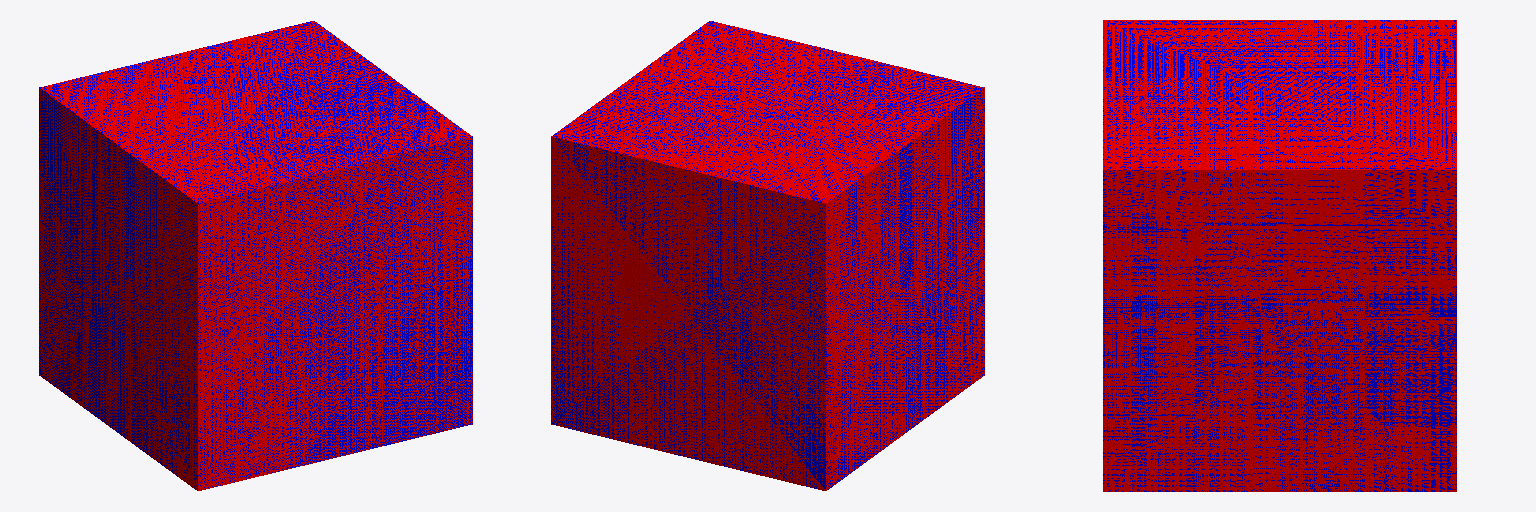
--- What the picture shows (computed from the rendered views, not written in the file) ---
The picture shows the robot from 3 angles, left to right: view 1: azimuth 30°, elevation 25°; view 2: azimuth 150°, elevation 25°; view 3: azimuth 270°, elevation 25°; orthographic projection.
Model covvi_hand_right with 87 links and 86 joints (32 revolute, 54 fixed), rooted at __base_link, posed all joints at 0 but 8 set to mid-range because 0 is outside their limits (, +8 more).
Links seen in each view (by area): view 1: __base_link, _base_link; view 2: __base_link, _base_link; view 3: __base_link, _base_link.
Link boxes in pixels (x1,y1,x2,y2): __base_link: (39,21,472,490); _base_link: (39,21,472,490); __base_link: (551,21,984,490); _base_link: (551,21,984,490); __base_link: (1103,20,1456,491); _base_link: (1103,20,1456,491).
Size in the robot's own frame: 1 by 1 by 1 metres.
Meshes: 27 distinct files referenced, 27 mesh visuals loaded (27 binary STL).

robot.urdf — covvi_hand_right:
<?xml version="1.0" encoding="utf-8"?>
<robot name="covvi_hand_right">

    <link name="__base_link">
        <visual>
            <origin xyz="0.000000000000 0.000000000000 0.000000000000" rpy="0 0 0"/>
            <geometry><box size="1 1 1"/></geometry>
            <material name="r48384"><color rgba="1 0 0 0"/></material>
        </visual>
        <inertial>
            <mass value="1"/>
            <inertia ixx="1.0" ixy="0.0" ixz="0.0" iyy="1.0" iyz="0.0" izz="1.0"/>
        </inertial>
    </link>

    <link name="_base_link">
        <visual>
            <origin xyz="0.000000000000 0.000000000000 0.000000000000" rpy="0 0 0"/>
            <geometry><box size="1 1 1"/></geometry>
            <material name="r81841"><color rgba="0 0 1 0"/></material>
        </visual>
        <inertial>
            <mass value="1"/>
            <inertia ixx="1.0" ixy="0.0" ixz="0.0" iyy="1.0" iyz="0.0" izz="1.0"/>
        </inertial>
    </link>

    <joint name="__joint_base_link" type="fixed">
        <origin xyz="0.000000000000 0.000000000000 0.000000000000" rpy="1.5707963267948966 3.141592653589793 0.0"/>
        <parent link="__base_link"/>
        <child link="_base_link"/>
        <axis xyz="0 0 1"/>
    </joint>

    <link name="base_link">
        <visual>
            <origin xyz="0.000000000000 0.000000000000 0.000000000000" rpy="0 0 0"/>
            <geometry><mesh filename="package://hand_pack/urdf/linear_meshes/right_base_link.STL" scale="0.00125 0.00125 0.00125"/></geometry>
            <material name=""><color rgba="0.7 0.7 0.7 1.0"/></material>
        </visual>
        <collision>
            <origin xyz="0 0 0" rpy="0 0 0"/>
            <geometry>
            <mesh filename="package://hand_pack/urdf/linear_meshes/right_base_link.STL" scale="0.00125 0.00125 0.00125"/>
            </geometry>
        </collision>
        <inertial>
            <mass value="0"/>
            <inertia ixx="0.0" ixy="0.0" ixz="0.0" iyy="0.0" iyz="0.0" izz="0.0"/>
        </inertial>
    </link>

    <joint name="_joint_base_link" type="fixed">
        <origin xyz="0.002143413574 -0.067947931290 0.012606076002" rpy="0 0 0"/>
        <parent link="_base_link"/>
        <child link="base_link"/>
        <axis xyz="0 0 1"/>
    </joint>

        <link name="Thumb_driver_link">
        <visual>
            <origin xyz="0.000000000000 0.000000000000 0.000000000000" rpy="0 0 0"/>
            <geometry><box size="0 0 0"/></geometry>
            <material name="r37082"><color rgba="0 0 0 0"/></material>
        </visual>
        <inertial>
            <mass value="1"/>
            <inertia ixx="1.0" ixy="0.0" ixz="0.0" iyy="1.0" iyz="0.0" izz="1.0"/>
        </inertial>
    </link>
    <joint name="Thumb" type="revolute">
        <origin xyz="0.000000000000 0.000000000000 0.000000000000"/><parent link="base_link"/><child link="Thumb_driver_link"/><axis xyz="0 0 1"/>
        <limit lower="0.00000000000000000000" upper="1.00000000000000000000" effort="0" velocity="0"/>
    </joint>
    <link name="Index_driver_link">
        <visual>
            <origin xyz="0.000000000000 0.000000000000 0.000000000000" rpy="0 0 0"/>
            <geometry><box size="0 0 0"/></geometry>
            <material name="r47461"><color rgba="0 0 0 0"/></material>
        </visual>
        <inertial>
            <mass value="1"/>
            <inertia ixx="1.0" ixy="0.0" ixz="0.0" iyy="1.0" iyz="0.0" izz="1.0"/>
        </inertial>
    </link>
    <joint name="Index" type="revolute">
        <origin xyz="0.000000000000 0.000000000000 0.000000000000"/><parent link="base_link"/><child link="Index_driver_link"/><axis xyz="0 0 1"/>
        <limit lower="0.00000000000000000000" upper="1.00000000000000000000" effort="0" velocity="0"/>
    </joint>
    <link name="Middle_driver_link">
        <visual>
            <origin xyz="0.000000000000 0.000000000000 0.000000000000" rpy="0 0 0"/>
            <geometry><box size="0 0 0"/></geometry>
            <material name="r7722"><color rgba="0 0 0 0"/></material>
        </visual>
        <inertial>
            <mass value="1"/>
            <inertia ixx="1.0" ixy="0.0" ixz="0.0" iyy="1.0" iyz="0.0" izz="1.0"/>
        </inertial>
    </link>
    <joint name="Middle" type="revolute">
        <origin xyz="0.000000000000 0.000000000000 0.000000000000"/><parent link="base_link"/><child link="Middle_driver_link"/><axis xyz="0 0 1"/>
        <limit lower="0.00000000000000000000" upper="1.00000000000000000000" effort="0" velocity="0"/>
    </joint>
    <link name="Ring_driver_link">
        <visual>
            <origin xyz="0.000000000000 0.000000000000 0.000000000000" rpy="0 0 0"/>
            <geometry><box size="0 0 0"/></geometry>
            <material name="r66101"><color rgba="0 0 0 0"/></material>
        </visual>
        <inertial>
            <mass value="1"/>
            <inertia ixx="1.0" ixy="0.0" ixz="0.0" iyy="1.0" iyz="0.0" izz="1.0"/>
        </inertial>
    </link>
    <joint name="Ring" type="revolute">
        <origin xyz="0.000000000000 0.000000000000 0.000000000000"/><parent link="base_link"/><child link="Ring_driver_link"/><axis xyz="0 0 1"/>
        <limit lower="0.00000000000000000000" upper="1.00000000000000000000" effort="0" velocity="0"/>
    </joint>
    <link name="Little_driver_link">
        <visual>
            <origin xyz="0.000000000000 0.000000000000 0.000000000000" rpy="0 0 0"/>
            <geometry><box size="0 0 0"/></geometry>
            <material name="r58325"><color rgba="0 0 0 0"/></material>
        </visual>
        <inertial>
            <mass value="1"/>
            <inertia ixx="1.0" ixy="0.0" ixz="0.0" iyy="1.0" iyz="0.0" izz="1.0"/>
        </inertial>
    </link>
    <joint name="Little" type="revolute">
        <origin xyz="0.000000000000 0.000000000000 0.000000000000"/><parent link="base_link"/><child link="Little_driver_link"/><axis xyz="0 0 1"/>
        <limit lower="0.00000000000000000000" upper="1.00000000000000000000" effort="0" velocity="0"/>
    </joint>
    <link name="Rotate_driver_link">
        <visual>
            <origin xyz="0.000000000000 0.000000000000 0.000000000000" rpy="0 0 0"/>
            <geometry><box size="0 0 0"/></geometry>
            <material name="r13443"><color rgba="0 0 0 0"/></material>
        </visual>
        <inertial>
            <mass value="1"/>
            <inertia ixx="1.0" ixy="0.0" ixz="0.0" iyy="1.0" iyz="0.0" izz="1.0"/>
        </inertial>
    </link>
    <joint name="Rotate" type="revolute">
        <origin xyz="0.000000000000 0.000000000000 0.000000000000"/><parent link="base_link"/><child link="Rotate_driver_link"/><axis xyz="0 0 1"/>
        <limit lower="0.00000000000000000000" upper="1.00000000000000000000" effort="0" velocity="0"/>
    </joint>

        <link name="lisa">
        <visual>
            <origin xyz="0.000000000000 0.000000000000 0.000000000000" rpy="0 0 0"/>
            <geometry><mesh filename="package://hand_pack/urdf/linear_meshes/right_lisa.STL" scale="0.00125 0.00125 0.00125"/></geometry>
            <material name=""><color rgba="0.7 0.7 0.1 1.0"/></material>
        </visual>
         <collision>
            <origin xyz="0 0 0" rpy="0 0 0"/>
            <geometry>
            <mesh filename="package://hand_pack/urdf/linear_meshes/right_lisa.STL" scale="0.00125 0.00125 0.00125"/>
            </geometry>
        </collision>
        <inertial>
            <mass value="0"/>
            <inertia ixx="0.0" ixy="0.0" ixz="0.0" iyy="0.0" iyz="0.0" izz="0.0"/>
        </inertial>
    </link>
        <link name="_lisa_l0">
        <visual>
            <origin xyz="0.000000000000 0.000000000000 0.000000000000" rpy="0 0 0"/>
            <geometry><box size="0 0 0"/></geometry>
            <material name=""><color rgba="0 0 0 0"/></material>
        </visual>
        <inertial>
            <mass value="0"/>
            <inertia ixx="0.0" ixy="0.0" ixz="0.0" iyy="0.0" iyz="0.0" izz="0.0"/>
        </inertial>
    </link>

    <joint name="_lisa_j_input_joint" type="fixed">
        <origin xyz="0.013299160056 0.024865300265 0.015495882948" rpy="-0.00000001490116097180 0 0"/>
        <parent link="base_link"/>
        <axis xyz="8.166136313026937e-09 0.9999999999999999 1.300658039224663e-08"/>
        <child link="_lisa_l0"/>
    </joint>

    
    <link name="_lisa_l1">
        <visual>
            <origin xyz="0.000000000000 0.000000000000 -0.000000000000" rpy="0 0 -0.00000001490116097180"/>
            <geometry><box size="0 0 0"/></geometry>
            <material name="r48572"><color rgba="0 0 0 0"/></material>
        </visual>
        <inertial>
            <mass value="1"/>
            <inertia ixx="1.0" ixy="0.0" ixz="0.0" iyy="1.0" iyz="0.0" izz="1.0"/>
        </inertial>
    </link>
    <joint name="_lisa_j01" type="revolute">
        <origin xyz="0.000000000000 0.000000000000 0.000000000000" rpy="0 0 0"/>
        <parent link="_lisa_l0"/>
        <child link="_lisa_l1"/>
        <axis xyz="8.166136313026937e-09 0.9999999999999999 1.300658039224663e-08"/>
        <mimic joint="Rotate" multiplier="1.07337741974876732520" offset="0.00000001490116097180"/>
        <limit lower="0.00000001490116097180" upper="1.07337743464992829701" effort="0" velocity="0"/>
    </joint>


    <joint name="_lisa_j_lisa" type="fixed">
        <origin xyz="-0.013299160056 -0.024865300265 -0.015495882948" rpy="-0.00000001490116097180 0 0"/>
        <parent link="_lisa_l1"/>
        <child link="lisa"/>
    </joint>
    <link name="thumb_chassis">
        <visual>
            <origin xyz="0.000000000000 0.000000000000 0.000000000000" rpy="0 0 0"/>
            <geometry><mesh filename="package://hand_pack/urdf/linear_meshes/right_thumb_chassis.STL" scale="0.00125 0.00125 0.00125"/></geometry>
            <material name=""><color rgba="0.7 0.1 0.7 1.0"/></material>
        </visual>
         <collision>
            <origin xyz="0 0 0" rpy="0 0 0"/>
            <geometry>
            <mesh filename="package://hand_pack/urdf/linear_meshes/right_thumb_chassis.STL" scale="0.00125 0.00125 0.00125"/>
            </geometry>
        </collision>
        <inertial>
            <mass value="0"/>
            <inertia ixx="0.0" ixy="0.0" ixz="0.0" iyy="0.0" iyz="0.0" izz="0.0"/>
        </inertial>
    </link>
        <link name="_thumb_chassis_l0">
        <visual>
            <origin xyz="0.000000000000 0.000000000000 0.000000000000" rpy="0 0 0"/>
            <geometry><box size="0 0 0"/></geometry>
            <material name=""><color rgba="0 0 0 0"/></material>
        </visual>
        <inertial>
            <mass value="0"/>
            <inertia ixx="0.0" ixy="0.0" ixz="0.0" iyy="0.0" iyz="0.0" izz="0.0"/>
        </inertial>
    </link>

    <joint name="_thumb_chassis_j_input_joint" type="fixed">
        <origin xyz="0.030298065971 0.028648911186 0.015688627590" rpy="-0.00000002107342389479 0 0"/>
        <parent link="base_link"/>
        <axis xyz="-1.0039121702977482e-08 -0.9999999999999999 1.8777992879094288e-08"/>
        <child link="_thumb_chassis_l0"/>
    </joint>

    
    <link name="_thumb_chassis_l1">
        <visual>
            <origin xyz="0.000000000000 0.000000000000 -0.000000000000" rpy="0 0 -0.00000002107342389479"/>
            <geometry><box size="0 0 0"/></geometry>
            <material name="r29002"><color rgba="0 0 0 0"/></material>
        </visual>
        <inertial>
            <mass value="1"/>
            <inertia ixx="1.0" ixy="0.0" ixz="0.0" iyy="1.0" iyz="0.0" izz="1.0"/>
        </inertial>
    </link>
    <joint name="_thumb_chassis_j01" type="revolute">
        <origin xyz="0.000000000000 0.000000000000 0.000000000000" rpy="0 0 0"/>
        <parent link="_thumb_chassis_l0"/>
        <child link="_thumb_chassis_l1"/>
        <axis xyz="-1.0039121702977482e-08 -0.9999999999999999 1.8777992879094288e-08"/>
        <mimic joint="Rotate" multiplier="1.53339618284689227501" offset="0.00000002107342389479"/>
        <limit lower="0.00000002107342389479" upper="1.53339620392031616980" effort="0" velocity="0"/>
    </joint>


    <joint name="_thumb_chassis_j_thumb_chassis" type="fixed">
        <origin xyz="-0.030298065971 -0.028648911186 -0.015688627590" rpy="-0.00000002107342389479 0 0"/>
        <parent link="_thumb_chassis_l1"/>
        <child link="thumb_chassis"/>
    </joint>
    <link name="thumb_proximal">
        <visual>
            <origin xyz="0.000000000000 0.000000000000 0.000000000000" rpy="0 0 0"/>
            <geometry><mesh filename="package://hand_pack/urdf/linear_meshes/right_thumb_proximal.STL" scale="0.00125 0.00125 0.00125"/></geometry>
            <material name=""><color rgba="1.0 1.0 1.0 1.0"/></material>
        </visual>
         <collision>
            <origin xyz="0 0 0" rpy="0 0 0"/>
            <geometry>
            <mesh filename="package://hand_pack/urdf/linear_meshes/right_thumb_proximal.STL" scale="0.00125 0.00125 0.00125"/>
            </geometry>
        </collision>
        <inertial>
            <mass value="0"/>
            <inertia ixx="0.0" ixy="0.0" ixz="0.0" iyy="0.0" iyz="0.0" izz="0.0"/>
        </inertial>
    </link>
        <link name="_thumb_proximal_l0">
        <visual>
            <origin xyz="0.000000000000 0.000000000000 0.000000000000" rpy="0 0 0"/>
            <geometry><box size="0 0 0"/></geometry>
            <material name=""><color rgba="0 0 0 0"/></material>
        </visual>
        <inertial>
            <mass value="0"/>
            <inertia ixx="0.0" ixy="0.0" ixz="0.0" iyy="0.0" iyz="0.0" izz="0.0"/>
        </inertial>
    </link>

    <joint name="_thumb_proximal_j_input_joint" type="fixed">
        <origin xyz="0.057440712585 0.027078291313 0.013009442663" rpy="0.00000000000000016653 0 0"/>
        <parent link="thumb_chassis"/>
        <axis xyz="0.14866818156281958 -0.1305261869683429 0.9802350158540093"/>
        <child link="_thumb_proximal_l0"/>
    </joint>

    
    <link name="_thumb_proximal_l1">
        <visual>
            <origin xyz="0.000000000000 0.000000000000 -0.000000000000" rpy="0 0 0.00000000000000016653"/>
            <geometry><box size="0 0 0"/></geometry>
            <material name="r67118"><color rgba="0 0 0 0"/></material>
        </visual>
        <inertial>
            <mass value="1"/>
            <inertia ixx="1.0" ixy="0.0" ixz="0.0" iyy="1.0" iyz="0.0" izz="1.0"/>
        </inertial>
    </link>
    <joint name="_thumb_proximal_j01" type="revolute">
        <origin xyz="0.000000000000 0.000000000000 0.000000000000" rpy="0 0 0"/>
        <parent link="_thumb_proximal_l0"/>
        <child link="_thumb_proximal_l1"/>
        <axis xyz="0.14866818156281958 -0.1305261869683429 0.9802350158540093"/>
        <mimic joint="Thumb" multiplier="0.72022188617106031039" offset="-0.00000000000000016653"/>
        <limit lower="-0.00000000000000016653" upper="0.72022188617106019937" effort="0" velocity="0"/>
    </joint>


    <joint name="_thumb_proximal_j_thumb_proximal" type="fixed">
        <origin xyz="-0.057440712585 -0.027078291313 -0.013009442663" rpy="0.00000000000000016653 0 0"/>
        <parent link="_thumb_proximal_l1"/>
        <child link="thumb_proximal"/>
    </joint>
    <link name="thumb_distal">
        <visual>
            <origin xyz="0.000000000000 0.000000000000 0.000000000000" rpy="0 0 0"/>
            <geometry><mesh filename="package://hand_pack/urdf/linear_meshes/right_thumb_distal.STL" scale="0.00125 0.00125 0.00125"/></geometry>
            <material name=""><color rgba="1.0 1.0 1.0 1.0"/></material>
        </visual>
         <collision>
            <origin xyz="0 0 0" rpy="0 0 0"/>
            <geometry>
            <mesh filename="package://hand_pack/urdf/linear_meshes/right_thumb_distal.STL" scale="0.00125 0.00125 0.00125"/>
            </geometry>
        </collision>
        <inertial>
            <mass value="0"/>
            <inertia ixx="0.0" ixy="0.0" ixz="0.0" iyy="0.0" iyz="0.0" izz="0.0"/>
        </inertial>
    </link>
        <link name="_thumb_distal_l0">
        <visual>
            <origin xyz="0.000000000000 0.000000000000 0.000000000000" rpy="0 0 0"/>
            <geometry><box size="0 0 0"/></geometry>
            <material name=""><color rgba="0 0 0 0"/></material>
        </visual>
        <inertial>
            <mass value="0"/>
            <inertia ixx="0.0" ixy="0.0" ixz="0.0" iyy="0.0" iyz="0.0" izz="0.0"/>
        </inertial>
    </link>

    <joint name="_thumb_distal_j_input_joint" type="fixed">
        <origin xyz="0.107606593447 0.084085993461 0.012754325235" rpy="0.00000000000000033307 0 0"/>
        <parent link="thumb_proximal"/>
        <axis xyz="0.1486681537240236 -0.13052619107234176 0.9802350195297231"/>
        <child link="_thumb_distal_l0"/>
    </joint>

    
    <link name="_thumb_distal_l1">
        <visual>
            <origin xyz="0.000000000000 0.000000000000 -0.000000000000" rpy="0 0 0.00000000000000033307"/>
            <geometry><box size="0 0 0"/></geometry>
            <material name="r72482"><color rgba="0 0 0 0"/></material>
        </visual>
        <inertial>
            <mass value="1"/>
            <inertia ixx="1.0" ixy="0.0" ixz="0.0" iyy="1.0" iyz="0.0" izz="1.0"/>
        </inertial>
    </link>
    <joint name="_thumb_distal_j01" type="revolute">
        <origin xyz="0.000000000000 0.000000000000 0.000000000000" rpy="0 0 0"/>
        <parent link="_thumb_distal_l0"/>
        <child link="_thumb_distal_l1"/>
        <axis xyz="0.1486681537240236 -0.13052619107234176 0.9802350195297231"/>
        <mimic joint="Thumb" multiplier="1.06686018440504470917" offset="-0.00000000000000033307"/>
        <limit lower="-0.00000000000000033307" upper="1.06686018440504426508" effort="0" velocity="0"/>
    </joint>


    <joint name="_thumb_distal_j_thumb_distal" type="fixed">
        <origin xyz="-0.107606593447 -0.084085993461 -0.012754325235" rpy="0.00000000000000033307 0 0"/>
        <parent link="_thumb_distal_l1"/>
        <child link="thumb_distal"/>
    </joint>
    <link name="thumb_link">
        <visual>
            <origin xyz="0.000000000000 0.000000000000 0.000000000000" rpy="0 0 0"/>
            <geometry><mesh filename="package://hand_pack/urdf/linear_meshes/right_thumb_link.STL" scale="0.00125 0.00125 0.00125"/></geometry>
            <material name=""><color rgba="0.7 0.1 0.1 1.0"/></material>
        </visual>
         <collision>
            <origin xyz="0 0 0" rpy="0 0 0"/>
            <geometry>
            <mesh filename="package://hand_pack/urdf/linear_meshes/right_thumb_link.STL" scale="0.00125 0.00125 0.00125"/>
            </geometry>
        </collision>
        <inertial>
            <mass value="0"/>
            <inertia ixx="0.0" ixy="0.0" ixz="0.0" iyy="0.0" iyz="0.0" izz="0.0"/>
        </inertial>
    </link>
        <link name="_thumb_link_l0">
        <visual>
            <origin xyz="0.000000000000 0.000000000000 0.000000000000" rpy="0 0 0"/>
            <geometry><box size="0 0 0"/></geometry>
            <material name=""><color rgba="0 0 0 0"/></material>
        </visual>
        <inertial>
            <mass value="0"/>
            <inertia ixx="0.0" ixy="0.0" ixz="0.0" iyy="0.0" iyz="0.0" izz="0.0"/>
        </inertial>
    </link>

    <joint name="_thumb_link_j_input_joint" type="fixed">
        <origin xyz="0.046350946174 0.032309169498 0.015440038341" rpy="0.00000000000000016653 0 0"/>
        <parent link="thumb_chassis"/>
        <axis xyz="0.1486681500676118 -0.1305261887766519 0.9802350203899655"/>
        <child link="_thumb_link_l0"/>
    </joint>

    
    <link name="_thumb_link_l1">
        <visual>
            <origin xyz="0.000000000000 0.000000000000 -0.000000000000" rpy="0 0 0.00000000000000016653"/>
            <geometry><box size="0 0 0"/></geometry>
            <material name="r43178"><color rgba="0 0 0 0"/></material>
        </visual>
        <inertial>
            <mass value="1"/>
            <inertia ixx="1.0" ixy="0.0" ixz="0.0" iyy="1.0" iyz="0.0" izz="1.0"/>
        </inertial>
    </link>
    <joint name="_thumb_link_j01" type="revolute">
        <origin xyz="0.000000000000 0.000000000000 0.000000000000" rpy="0 0 0"/>
        <parent link="_thumb_link_l0"/>
        <child link="_thumb_link_l1"/>
        <axis xyz="0.1486681500676118 -0.1305261887766519 0.9802350203899655"/>
        <mimic joint="Thumb" multiplier="0.76799454671461719890" offset="-0.00000000000000016653"/>
        <limit lower="-0.00000000000000016653" upper="0.76799454671461697686" effort="0" velocity="0"/>
    </joint>


    <joint name="_thumb_link_j_thumb_link" type="fixed">
        <origin xyz="-0.046350946174 -0.032309169498 -0.015440038341" rpy="0.00000000000000016653 0 0"/>
        <parent link="_thumb_link_l1"/>
        <child link="thumb_link"/>
    </joint>
    <link name="thumb_follower">
        <visual>
            <origin xyz="0.000000000000 0.000000000000 0.000000000000" rpy="0 0 0"/>
            <geometry><mesh filename="package://hand_pack/urdf/linear_meshes/right_thumb_follower.STL" scale="0.00125 0.00125 0.00125"/></geometry>
            <material name=""><color rgba="0.1 0.7 0.1 1.0"/></material>
        </visual>
         <collision>
            <origin xyz="0 0 0" rpy="0 0 0"/>
            <geometry>
            <mesh filename="package://hand_pack/urdf/linear_meshes/right_thumb_follower.STL" scale="0.00125 0.00125 0.00125"/>
            </geometry>
        </collision>
        <inertial>
            <mass value="0"/>
            <inertia ixx="0.0" ixy="0.0" ixz="0.0" iyy="0.0" iyz="0.0" izz="0.0"/>
        </inertial>
    </link>
        <link name="_thumb_follower_l0">
        <visual>
            <origin xyz="0.000000000000 0.000000000000 0.000000000000" rpy="0 0 0"/>
            <geometry><box size="0 0 0"/></geometry>
            <material name=""><color rgba="0 0 0 0"/></material>
        </visual>
        <inertial>
            <mass value="0"/>
            <inertia ixx="0.0" ixy="0.0" ixz="0.0" iyy="0.0" iyz="0.0" izz="0.0"/>
        </inertial>
    </link>

    <joint name="_thumb_follower_j_input_joint" type="fixed">
        <origin xyz="0.054416716198 0.056962081582 0.017329306960" rpy="0.00000000000000022204 0 0"/>
        <parent link="thumb_link"/>
        <axis xyz="-0.1486655629842887 0.13052549101972807 -0.9802355056702565"/>
        <child link="_thumb_follower_l0"/>
    </joint>

    
    <link name="_thumb_follower_l1">
        <visual>
            <origin xyz="0.000000000000 0.000000000000 -0.000000000000" rpy="0 0 0.00000000000000022204"/>
            <geometry><box size="0 0 0"/></geometry>
            <material name="r80207"><color rgba="0 0 0 0"/></material>
        </visual>
        <inertial>
            <mass value="1"/>
            <inertia ixx="1.0" ixy="0.0" ixz="0.0" iyy="1.0" iyz="0.0" izz="1.0"/>
        </inertial>
    </link>
    <joint name="_thumb_follower_j01" type="revolute">
        <origin xyz="0.000000000000 0.000000000000 0.000000000000" rpy="0 0 0"/>
        <parent link="_thumb_follower_l0"/>
        <child link="_thumb_follower_l1"/>
        <axis xyz="-0.1486655629842887 0.13052549101972807 -0.9802355056702565"/>
        <mimic joint="Thumb" multiplier="0.93732763826281451092" offset="-0.00000000000000022204"/>
        <limit lower="-0.00000000000000022204" upper="0.93732763826281428887" effort="0" velocity="0"/>
    </joint>


    <joint name="_thumb_follower_j_thumb_follower" type="fixed">
        <origin xyz="-0.054416716198 -0.056962081582 -0.017329306960" rpy="0.00000000000000022204 0 0"/>
        <parent link="_thumb_follower_l1"/>
        <child link="thumb_follower"/>
    </joint>
    <link name="index_proximal">
        <visual>
            <origin xyz="0.000000000000 0.000000000000 0.000000000000" rpy="0 0 0"/>
            <geometry><mesh filename="package://hand_pack/urdf/linear_meshes/right_index_proximal.STL" scale="0.00125 0.00125 0.00125"/></geometry>
            <material name=""><color rgba="1.0 1.0 1.0 1.0"/></material>
        </visual>
         <collision>
            <origin xyz="0 0 0" rpy="0 0 0"/>
            <geometry>
            <mesh filename="package://hand_pack/urdf/linear_meshes/right_index_proximal.STL" scale="0.00125 0.00125 0.00125"/>
            </geometry>
        </collision>
        <inertial>
            <mass value="0"/>
            <inertia ixx="0.0" ixy="0.0" ixz="0.0" iyy="0.0" iyz="0.0" izz="0.0"/>
        </inertial>
    </link>
        <link name="_index_proximal_l0">
        <visual>
            <origin xyz="0.000000000000 0.000000000000 0.000000000000" rpy="0 0 0"/>
            <geometry><box size="0 0 0"/></geometry>
            <material name=""><color rgba="0 0 0 0"/></material>
        </visual>
        <inertial>
            <mass value="0"/>
            <inertia ixx="0.0" ixy="0.0" ixz="0.0" iyy="0.0" iyz="0.0" izz="0.0"/>
        </inertial>
    </link>

    <joint name="_index_proximal_j_input_joint" type="fixed">
        <origin xyz="0.028877273429 0.114197190531 -0.018447472476" rpy="-0.00000001490116086078 0 0"/>
        <parent link="base_link"/>
        <axis xyz="0.9935814517046622 -0.052307286750173175 -0.10029878653947531"/>
        <child link="_index_proximal_l0"/>
    </joint>

    
    <link name="_index_proximal_l1">
        <visual>
            <origin xyz="0.000000000000 0.000000000000 -0.000000000000" rpy="0 0 -0.00000001490116086078"/>
            <geometry><box size="0 0 0"/></geometry>
            <material name="r69401"><color rgba="0 0 0 0"/></material>
        </visual>
        <inertial>
            <mass value="1"/>
            <inertia ixx="1.0" ixy="0.0" ixz="0.0" iyy="1.0" iyz="0.0" izz="1.0"/>
        </inertial>
    </link>
    <joint name="_index_proximal_j01" type="revolute">
        <origin xyz="0.000000000000 0.000000000000 0.000000000000" rpy="0 0 0"/>
        <parent link="_index_proximal_l0"/>
        <child link="_index_proximal_l1"/>
        <axis xyz="0.9935814517046622 -0.052307286750173175 -0.10029878653947531"/>
        <mimic joint="Index" multiplier="1.51604339913513674887" offset="0.00000001490116086078"/>
        <limit lower="0.00000001490116086078" upper="1.51604341403629772067" effort="0" velocity="0"/>
    </joint>


    <joint name="_index_proximal_j_index_proximal" type="fixed">
        <origin xyz="-0.028877273429 -0.114197190531 0.018447472476" rpy="-0.00000001490116086078 0 0"/>
        <parent link="_index_proximal_l1"/>
        <child link="index_proximal"/>
    </joint>
    <link name="index_distal">
        <visual>
            <origin xyz="0.000000000000 0.000000000000 0.000000000000" rpy="0 0 0"/>
            <geometry><mesh filename="package://hand_pack/urdf/linear_meshes/right_index_distal.STL" scale="0.00125 0.00125 0.00125"/></geometry>
            <material name=""><color rgba="1.0 1.0 1.0 1.0"/></material>
        </visual>
         <collision>
            <origin xyz="0 0 0" rpy="0 0 0"/>
            <geometry>
            <mesh filename="package://hand_pack/urdf/linear_meshes/right_index_distal.STL" scale="0.00125 0.00125 0.00125"/>
            </geometry>
        </collision>
        <inertial>
            <mass value="0"/>
            <inertia ixx="0.0" ixy="0.0" ixz="0.0" iyy="0.0" iyz="0.0" izz="0.0"/>
        </inertial>
    </link>
        <link name="_index_distal_l0">
        <visual>
            <origin xyz="0.000000000000 0.000000000000 0.000000000000" rpy="0 0 0"/>
            <geometry><box size="0 0 0"/></geometry>
            <material name=""><color rgba="0 0 0 0"/></material>
        </visual>
        <inertial>
            <mass value="0"/>
            <inertia ixx="0.0" ixy="0.0" ixz="0.0" iyy="0.0" iyz="0.0" izz="0.0"/>
        </inertial>
    </link>

    <joint name="_index_distal_j_input_joint" type="fixed">
        <origin xyz="0.030141069999 0.151569779726 -0.021295880967" rpy="-0.00000002107342395030 0 0"/>
        <parent link="index_proximal"/>
        <axis xyz="0.9935814496116296 -0.0523072979212324 -0.10029880144763517"/>
        <child link="_index_distal_l0"/>
    </joint>

    
    <link name="_index_distal_l1">
        <visual>
            <origin xyz="0.000000000000 0.000000000000 -0.000000000000" rpy="0 0 -0.00000002107342395030"/>
            <geometry><box size="0 0 0"/></geometry>
            <material name="r61005"><color rgba="0 0 0 0"/></material>
        </visual>
        <inertial>
            <mass value="1"/>
            <inertia ixx="1.0" ixy="0.0" ixz="0.0" iyy="1.0" iyz="0.0" izz="1.0"/>
        </inertial>
    </link>
    <joint name="_index_distal_j01" type="revolute">
        <origin xyz="0.000000000000 0.000000000000 0.000000000000" rpy="0 0 0"/>
        <parent link="_index_distal_l0"/>
        <child link="_index_distal_l1"/>
        <axis xyz="0.9935814496116296 -0.0523072979212324 -0.10029880144763517"/>
        <mimic joint="Index" multiplier="1.33574108836935590006" offset="0.00000002107342395030"/>
        <limit lower="0.00000002107342395030" upper="1.33574110944277979485" effort="0" velocity="0"/>
    </joint>


    <joint name="_index_distal_j_index_distal" type="fixed">
        <origin xyz="-0.030141069999 -0.151569779726 0.021295880967" rpy="-0.00000002107342395030 0 0"/>
        <parent link="_index_distal_l1"/>
        <child link="index_distal"/>
    </joint>
    <link name="index_knuckle">
        <visual>
            <origin xyz="0.000000000000 0.000000000000 0.000000000000" rpy="0 0 0"/>
            <geometry><mesh filename="package://hand_pack/urdf/linear_meshes/right_index_knuckle.STL" scale="0.00125 0.00125 0.00125"/></geometry>
            <material name=""><color rgba="0.1 0.1 0.7 1.0"/></material>
        </visual>
         <collision>
            <origin xyz="0 0 0" rpy="0 0 0"/>
            <geometry>
            <mesh filename="package://hand_pack/urdf/linear_meshes/right_index_knuckle.STL" scale="0.00125 0.00125 0.00125"/>
            </geometry>
        </collision>
        <inertial>
            <mass value="0"/>
            <inertia ixx="0.0" ixy="0.0" ixz="0.0" iyy="0.0" iyz="0.0" izz="0.0"/>
        </inertial>
    </link>
        <link name="_index_knuckle_l0">
        <visual>
            <origin xyz="0.000000000000 0.000000000000 0.000000000000" rpy="0 0 0"/>
            <geometry><box size="0 0 0"/></geometry>
            <material name=""><color rgba="0 0 0 0"/></material>
        </visual>
        <inertial>
            <mass value="0"/>
            <inertia ixx="0.0" ixy="0.0" ixz="0.0" iyy="0.0" iyz="0.0" izz="0.0"/>
        </inertial>
    </link>

    <joint name="_index_knuckle_j_input_joint" type="fixed">
        <origin xyz="0.027321210774 0.106485766712 -0.029724677736" rpy="-0.00000002107342400581 0 0"/>
        <parent link="index_proximal"/>
        <axis xyz="-0.9935814514632575 0.05230723732964991 0.10029881470439378"/>
        <child link="_index_knuckle_l0"/>
    </joint>

    
    <link name="_index_knuckle_l1">
        <visual>
            <origin xyz="0.000000000000 0.000000000000 -0.000000000000" rpy="0 0 -0.00000002107342400581"/>
            <geometry><box size="0 0 0"/></geometry>
            <material name="r79316"><color rgba="0 0 0 0"/></material>
        </visual>
        <inertial>
            <mass value="1"/>
            <inertia ixx="1.0" ixy="0.0" ixz="0.0" iyy="1.0" iyz="0.0" izz="1.0"/>
        </inertial>
    </link>
    <joint name="_index_knuckle_j01" type="revolute">
        <origin xyz="0.000000000000 0.000000000000 0.000000000000" rpy="0 0 0"/>
        <parent link="_index_knuckle_l0"/>
        <child link="_index_knuckle_l1"/>
        <axis xyz="-0.9935814514632575 0.05230723732964991 0.10029881470439378"/>
        <mimic joint="Index" multiplier="1.25181519799450313712" offset="0.00000002107342400581"/>
        <limit lower="0.00000002107342400581" upper="1.25181521906792703192" effort="0" velocity="0"/>
    </joint>


    <joint name="_index_knuckle_j_index_knuckle" type="fixed">
        <origin xyz="-0.027321210774 -0.106485766712 0.029724677736" rpy="-0.00000002107342400581 0 0"/>
        <parent link="_index_knuckle_l1"/>
        <child link="index_knuckle"/>
    </joint>
    <link name="index_follower">
        <visual>
            <origin xyz="0.000000000000 0.000000000000 0.000000000000" rpy="0 0 0"/>
            <geometry><mesh filename="package://hand_pack/urdf/linear_meshes/right_index_follower.STL" scale="0.00125 0.00125 0.00125"/></geometry>
            <material name=""><color rgba="0.1 0.7 0.1 1.0"/></material>
        </visual>
         <collision>
            <origin xyz="0 0 0" rpy="0 0 0"/>
            <geometry>
            <mesh filename="package://hand_pack/urdf/linear_meshes/right_index_follower.STL" scale="0.00125 0.00125 0.00125"/>
            </geometry>
        </collision>
        <inertial>
            <mass value="0"/>
            <inertia ixx="0.0" ixy="0.0" ixz="0.0" iyy="0.0" iyz="0.0" izz="0.0"/>
        </inertial>
    </link>
        <link name="_index_follower_l0">
        <visual>
            <origin xyz="0.000000000000 0.000000000000 0.000000000000" rpy="0 0 0"/>
            <geometry><box size="0 0 0"/></geometry>
            <material name=""><color rgba="0 0 0 0"/></material>
        </visual>
        <inertial>
            <mass value="0"/>
            <inertia ixx="0.0" ixy="0.0" ixz="0.0" iyy="0.0" iyz="0.0" izz="0.0"/>
        </inertial>
    </link>

    <joint name="_index_follower_j_input_joint" type="fixed">
        <origin xyz="0.026579156086 0.083979461681 -0.026080789801" rpy="0.00000000000000005551 0 0"/>
        <parent link="index_knuckle"/>
        <axis xyz="-0.9935816391717812 0.05230592427414335 0.10029763998491735"/>
        <child link="_index_follower_l0"/>
    </joint>

    
    <link name="_index_follower_l1">
        <visual>
            <origin xyz="0.000000000000 0.000000000000 -0.000000000000" rpy="0 0 0.00000000000000005551"/>
            <geometry><box size="0 0 0"/></geometry>
            <material name="r82929"><color rgba="0 0 0 0"/></material>
        </visual>
        <inertial>
            <mass value="1"/>
            <inertia ixx="1.0" ixy="0.0" ixz="0.0" iyy="1.0" iyz="0.0" izz="1.0"/>
        </inertial>
    </link>
    <joint name="_index_follower_j01" type="revolute">
        <origin xyz="0.000000000000 0.000000000000 0.000000000000" rpy="0 0 0"/>
        <parent link="_index_follower_l0"/>
        <child link="_index_follower_l1"/>
        <axis xyz="-0.9935816391717812 0.05230592427414335 0.10029763998491735"/>
        <mimic joint="Index" multiplier="0.26422627443923907276" offset="-0.00000000000000005551"/>
        <limit lower="-0.00000000000000005551" upper="0.26422627443923901724" effort="0" velocity="0"/>
    </joint>


    <joint name="_index_follower_j_index_follower" type="fixed">
        <origin xyz="-0.026579156086 -0.083979461681 0.026080789801" rpy="0.00000000000000005551 0 0"/>
        <parent link="_index_follower_l1"/>
        <child link="index_follower"/>
    </joint>
    <link name="index_link">
        <visual>
            <origin xyz="0.000000000000 0.000000000000 0.000000000000" rpy="0 0 0"/>
            <geometry><mesh filename="package://hand_pack/urdf/linear_meshes/right_index_link.STL" scale="0.00125 0.00125 0.00125"/></geometry>
            <material name=""><color rgba="0.7 0.1 0.1 1.0"/></material>
        </visual>
         <collision>
            <origin xyz="0 0 0" rpy="0 0 0"/>
            <geometry>
            <mesh filename="package://hand_pack/urdf/linear_meshes/right_index_link.STL" scale="0.00125 0.00125 0.00125"/>
            </geometry>
        </collision>
        <inertial>
            <mass value="0"/>
            <inertia ixx="0.0" ixy="0.0" ixz="0.0" iyy="0.0" iyz="0.0" izz="0.0"/>
        </inertial>
    </link>
        <link name="_index_link_l0">
        <visual>
            <origin xyz="0.000000000000 0.000000000000 0.000000000000" rpy="0 0 0"/>
            <geometry><box size="0 0 0"/></geometry>
            <material name=""><color rgba="0 0 0 0"/></material>
        </visual>
        <inertial>
            <mass value="0"/>
            <inertia ixx="0.0" ixy="0.0" ixz="0.0" iyy="0.0" iyz="0.0" izz="0.0"/>
        </inertial>
    </link>

    <joint name="_index_link_j_input_joint" type="fixed">
        <origin xyz="0.027887192767 0.115952319352 -0.023727430766" rpy="0.00000000000000033307 0 0"/>
        <parent link="base_link"/>
        <axis xyz="0.9935814462116063 -0.05230730452290644 -0.10029883168612273"/>
        <child link="_index_link_l0"/>
    </joint>

    
    <link name="_index_link_l1">
        <visual>
            <origin xyz="0.000000000000 0.000000000000 -0.000000000000" rpy="0 0 0.00000000000000033307"/>
            <geometry><box size="0 0 0"/></geometry>
            <material name="r18117"><color rgba="0 0 0 0"/></material>
        </visual>
        <inertial>
            <mass value="1"/>
            <inertia ixx="1.0" ixy="0.0" ixz="0.0" iyy="1.0" iyz="0.0" izz="1.0"/>
        </inertial>
    </link>
    <joint name="_index_link_j01" type="revolute">
        <origin xyz="0.000000000000 0.000000000000 0.000000000000" rpy="0 0 0"/>
        <parent link="_index_link_l0"/>
        <child link="_index_link_l1"/>
        <axis xyz="0.9935814462116063 -0.05230730452290644 -0.10029883168612273"/>
        <mimic joint="Index" multiplier="1.33574038782547521720" offset="-0.00000000000000033307"/>
        <limit lower="-0.00000000000000033307" upper="1.33574038782547499515" effort="0" velocity="0"/>
    </joint>


    <joint name="_index_link_j_index_link" type="fixed">
        <origin xyz="-0.027887192767 -0.115952319352 0.023727430766" rpy="0.00000000000000033307 0 0"/>
        <parent link="_index_link_l1"/>
        <child link="index_link"/>
    </joint>
    <link name="middle_proximal">
        <visual>
            <origin xyz="0.000000000000 0.000000000000 0.000000000000" rpy="0 0 0"/>
            <geometry><mesh filename="package://hand_pack/urdf/linear_meshes/right_middle_proximal.STL" scale="0.00125 0.00125 0.00125"/></geometry>
            <material name=""><color rgba="1.0 1.0 1.0 1.0"/></material>
        </visual>
         <collision>
            <origin xyz="0 0 0" rpy="0 0 0"/>
            <geometry>
            <mesh filename="package://hand_pack/urdf/linear_meshes/right_middle_proximal.STL" scale="0.00125 0.00125 0.00125"/>
            </geometry>
        </collision>
        <inertial>
            <mass value="0"/>
            <inertia ixx="0.0" ixy="0.0" ixz="0.0" iyy="0.0" iyz="0.0" izz="0.0"/>
        </inertial>
    </link>
        <link name="_middle_proximal_l0">
        <visual>
            <origin xyz="0.000000000000 0.000000000000 0.000000000000" rpy="0 0 0"/>
            <geometry><box size="0 0 0"/></geometry>
            <material name=""><color rgba="0 0 0 0"/></material>
        </visual>
        <inertial>
            <mass value="0"/>
            <inertia ixx="0.0" ixy="0.0" ixz="0.0" iyy="0.0" iyz="0.0" izz="0.0"/>
        </inertial>
    </link>

    <joint name="_middle_proximal_j_input_joint" type="fixed">
        <origin xyz="0.004194723721 0.117970684114 -0.019425318726" rpy="0.00000000000000055511 0 0"/>
        <parent link="base_link"/>
        <axis xyz="0.9910685918607293 1.8063346067449371e-09 -0.13335308855512615"/>
        <child link="_middle_proximal_l0"/>
    </joint>

    
    <link name="_middle_proximal_l1">
        <visual>
            <origin xyz="0.000000000000 0.000000000000 -0.000000000000" rpy="0 0 0.00000000000000055511"/>
            <geometry><box size="0 0 0"/></geometry>
            <material name="r35313"><color rgba="0 0 0 0"/></material>
        </visual>
        <inertial>
            <mass value="1"/>
            <inertia ixx="1.0" ixy="0.0" ixz="0.0" iyy="1.0" iyz="0.0" izz="1.0"/>
        </inertial>
    </link>
    <joint name="_middle_proximal_j01" type="revolute">
        <origin xyz="0.000000000000 0.000000000000 0.000000000000" rpy="0 0 0"/>
        <parent link="_middle_proximal_l0"/>
        <child link="_middle_proximal_l1"/>
        <axis xyz="0.9910685918607293 1.8063346067449371e-09 -0.13335308855512615"/>
        <mimic joint="Middle" multiplier="1.51604368978713033300" offset="-0.00000000000000055511"/>
        <limit lower="-0.00000000000000055511" upper="1.51604368978712988891" effort="0" velocity="0"/>
    </joint>


    <joint name="_middle_proximal_j_middle_proximal" type="fixed">
        <origin xyz="-0.004194723721 -0.117970684114 0.019425318726" rpy="0.00000000000000055511 0 0"/>
        <parent link="_middle_proximal_l1"/>
        <child link="middle_proximal"/>
    </joint>
    <link name="middle_distal">
        <visual>
            <origin xyz="0.000000000000 0.000000000000 0.000000000000" rpy="0 0 0"/>
            <geometry><mesh filename="package://hand_pack/urdf/linear_meshes/right_middle_distal.STL" scale="0.00125 0.00125 0.00125"/></geometry>
            <material name=""><color rgba="1.0 1.0 1.0 1.0"/></material>
        </visual>
         <collision>
            <origin xyz="0 0 0" rpy="0 0 0"/>
            <geometry>
            <mesh filename="package://hand_pack/urdf/linear_meshes/right_middle_distal.STL" scale="0.00125 0.00125 0.00125"/>
            </geometry>
        </collision>
        <inertial>
            <mass value="0"/>
            <inertia ixx="0.0" ixy="0.0" ixz="0.0" iyy="0.0" iyz="0.0" izz="0.0"/>
        </inertial>
    </link>
        <link name="_middle_distal_l0">
        <visual>
            <origin xyz="0.000000000000 0.000000000000 0.000000000000" rpy="0 0 0"/>
            <geometry><box size="0 0 0"/></geometry>
            <material name=""><color rgba="0 0 0 0"/></material>
        </visual>
        <inertial>
            <mass value="0"/>
            <inertia ixx="0.0" ixy="0.0" ixz="0.0" iyy="0.0" iyz="0.0" izz="0.0"/>
        </inertial>
    </link>

    <joint name="_middle_distal_j_input_joint" type="fixed">
        <origin xyz="0.003937774811 0.160443533822 -0.020923051106" rpy="-0.00000002107342389479 0 0"/>
        <parent link="middle_proximal"/>
        <axis xyz="0.9910685909316314 -1.689482686870114e-09 -0.13335309546010102"/>
        <child link="_middle_distal_l0"/>
    </joint>

    
    <link name="_middle_distal_l1">
        <visual>
            <origin xyz="0.000000000000 0.000000000000 -0.000000000000" rpy="0 0 -0.00000002107342389479"/>
            <geometry><box size="0 0 0"/></geometry>
            <material name="r17832"><color rgba="0 0 0 0"/></material>
        </visual>
        <inertial>
            <mass value="1"/>
            <inertia ixx="1.0" ixy="0.0" ixz="0.0" iyy="1.0" iyz="0.0" izz="1.0"/>
        </inertial>
    </link>
    <joint name="_middle_distal_j01" type="revolute">
        <origin xyz="0.000000000000 0.000000000000 0.000000000000" rpy="0 0 0"/>
        <parent link="_middle_distal_l0"/>
        <child link="_middle_distal_l1"/>
        <axis xyz="0.9910685909316314 -1.689482686870114e-09 -0.13335309546010102"/>
        <mimic joint="Middle" multiplier="1.34986011532341310115" offset="0.00000002107342389479"/>
        <limit lower="0.00000002107342389479" upper="1.34986013639683699594" effort="0" velocity="0"/>
    </joint>


    <joint name="_middle_distal_j_middle_distal" type="fixed">
        <origin xyz="-0.003937774811 -0.160443533822 0.020923051106" rpy="-0.00000002107342389479 0 0"/>
        <parent link="_middle_distal_l1"/>
        <child link="middle_distal"/>
    </joint>
    <link name="middle_knuckle">
        <visual>
            <origin xyz="0.000000000000 0.000000000000 0.000000000000" rpy="0 0 0"/>
            <geometry><mesh filename="package://hand_pack/urdf/linear_meshes/right_middle_knuckle.STL" scale="0.00125 0.00125 0.00125"/></geometry>
            <material name=""><color rgba="0.1 0.1 0.7 1.0"/></material>
        </visual>
         <collision>
            <origin xyz="0 0 0" rpy="0 0 0"/>
            <geometry>
            <mesh filename="package://hand_pack/urdf/linear_meshes/right_middle_knuckle.STL" scale="0.00125 0.00125 0.00125"/>
            </geometry>
        </collision>
        <inertial>
            <mass value="0"/>
            <inertia ixx="0.0" ixy="0.0" ixz="0.0" iyy="0.0" iyz="0.0" izz="0.0"/>
        </inertial>
    </link>
        <link name="_middle_knuckle_l0">
        <visual>
            <origin xyz="0.000000000000 0.000000000000 0.000000000000" rpy="0 0 0"/>
            <geometry><box size="0 0 0"/></geometry>
            <material name=""><color rgba="0 0 0 0"/></material>
        </visual>
        <inertial>
            <mass value="0"/>
            <inertia ixx="0.0" ixy="0.0" ixz="0.0" iyy="0.0" iyz="0.0" izz="0.0"/>
        </inertial>
    </link>

    <joint name="_middle_knuckle_j_input_joint" type="fixed">
        <origin xyz="0.002654053402 0.110267820213 -0.030710506823" rpy="0.00000000000000022204 0 0"/>
        <parent link="middle_proximal"/>
        <axis xyz="-0.9910685921320656 -5.1727278766516505e-09 0.13335308653857816"/>
        <child link="_middle_knuckle_l0"/>
    </joint>

    
    <link name="_middle_knuckle_l1">
        <visual>
            <origin xyz="0.000000000000 0.000000000000 -0.000000000000" rpy="0 0 0.00000000000000022204"/>
            <geometry><box size="0 0 0"/></geometry>
            <material name="r26979"><color rgba="0 0 0 0"/></material>
        </visual>
        <inertial>
            <mass value="1"/>
            <inertia ixx="1.0" ixy="0.0" ixz="0.0" iyy="1.0" iyz="0.0" izz="1.0"/>
        </inertial>
    </link>
    <joint name="_middle_knuckle_j01" type="revolute">
        <origin xyz="0.000000000000 0.000000000000 0.000000000000" rpy="0 0 0"/>
        <parent link="_middle_knuckle_l0"/>
        <child link="_middle_knuckle_l1"/>
        <axis xyz="-0.9910685921320656 -5.1727278766516505e-09 0.13335308653857816"/>
        <mimic joint="Middle" multiplier="1.25181499257524908586" offset="-0.00000000000000022204"/>
        <limit lower="-0.00000000000000022204" upper="1.25181499257524886382" effort="0" velocity="0"/>
    </joint>


    <joint name="_middle_knuckle_j_middle_knuckle" type="fixed">
        <origin xyz="-0.002654053402 -0.110267820213 0.030710506823" rpy="0.00000000000000022204 0 0"/>
        <parent link="_middle_knuckle_l1"/>
        <child link="middle_knuckle"/>
    </joint>
    <link name="middle_follower">
        <visual>
            <origin xyz="0.000000000000 0.000000000000 0.000000000000" rpy="0 0 0"/>
            <geometry><mesh filename="package://hand_pack/urdf/linear_meshes/right_middle_follower.STL" scale="0.00125 0.00125 0.00125"/></geometry>
            <material name=""><color rgba="0.1 0.7 0.1 1.0"/></material>
        </visual>
         <collision>
            <origin xyz="0 0 0" rpy="0 0 0"/>
            <geometry>
            <mesh filename="package://hand_pack/urdf/linear_meshes/right_middle_follower.STL" scale="0.00125 0.00125 0.00125"/>
            </geometry>
        </collision>
        <inertial>
            <mass value="0"/>
            <inertia ixx="0.0" ixy="0.0" ixz="0.0" iyy="0.0" iyz="0.0" izz="0.0"/>
        </inertial>
    </link>
        <link name="_middle_follower_l0">
        <visual>
            <origin xyz="0.000000000000 0.000000000000 0.000000000000" rpy="0 0 0"/>
            <geometry><box size="0 0 0"/></geometry>
            <material name=""><color rgba="0 0 0 0"/></material>
        </visual>
        <inertial>
            <mass value="0"/>
            <inertia ixx="0.0" ixy="0.0" ixz="0.0" iyy="0.0" iyz="0.0" izz="0.0"/>
        </inertial>
    </link>

    <joint name="_middle_follower_j_input_joint" type="fixed">
        <origin xyz="0.003196178375 0.087728438770 -0.027239918043" rpy="0.00000000000000005551 0 0"/>
        <parent link="middle_knuckle"/>
        <axis xyz="-0.9910686221283496 -3.493623730798563e-07 0.13335286360814524"/>
        <child link="_middle_follower_l0"/>
    </joint>

    
    <link name="_middle_follower_l1">
        <visual>
            <origin xyz="0.000000000000 0.000000000000 -0.000000000000" rpy="0 0 0.00000000000000005551"/>
            <geometry><box size="0 0 0"/></geometry>
            <material name="r16493"><color rgba="0 0 0 0"/></material>
        </visual>
        <inertial>
            <mass value="1"/>
            <inertia ixx="1.0" ixy="0.0" ixz="0.0" iyy="1.0" iyz="0.0" izz="1.0"/>
        </inertial>
    </link>
    <joint name="_middle_follower_j01" type="revolute">
        <origin xyz="0.000000000000 0.000000000000 0.000000000000" rpy="0 0 0"/>
        <parent link="_middle_follower_l0"/>
        <child link="_middle_follower_l1"/>
        <axis xyz="-0.9910686221283496 -3.493623730798563e-07 0.13335286360814524"/>
        <mimic joint="Middle" multiplier="0.26422641895880322194" offset="-0.00000000000000005551"/>
        <limit lower="-0.00000000000000005551" upper="0.26422641895880316643" effort="0" velocity="0"/>
    </joint>


    <joint name="_middle_follower_j_middle_follower" type="fixed">
        <origin xyz="-0.003196178375 -0.087728438770 0.027239918043" rpy="0.00000000000000005551 0 0"/>
        <parent link="_middle_follower_l1"/>
        <child link="middle_follower"/>
    </joint>
    <link name="middle_link">
        <visual>
            <origin xyz="0.000000000000 0.000000000000 0.000000000000" rpy="0 0 0"/>
            <geometry><mesh filename="package://hand_pack/urdf/linear_meshes/right_middle_link.STL" scale="0.00125 0.00125 0.00125"/></geometry>
            <material name=""><color rgba="0.7 0.1 0.1 1.0"/></material>
        </visual>
         <collision>
            <origin xyz="0 0 0" rpy="0 0 0"/>
            <geometry>
            <mesh filename="package://hand_pack/urdf/linear_meshes/right_middle_link.STL" scale="0.00125 0.00125 0.00125"/>
            </geometry>
        </collision>
        <inertial>
            <mass value="0"/>
            <inertia ixx="0.0" ixy="0.0" ixz="0.0" iyy="0.0" iyz="0.0" izz="0.0"/>
        </inertial>
    </link>
        <link name="_middle_link_l0">
        <visual>
            <origin xyz="0.000000000000 0.000000000000 0.000000000000" rpy="0 0 0"/>
            <geometry><box size="0 0 0"/></geometry>
            <material name=""><color rgba="0 0 0 0"/></material>
        </visual>
        <inertial>
            <mass value="0"/>
            <inertia ixx="0.0" ixy="0.0" ixz="0.0" iyy="0.0" iyz="0.0" izz="0.0"/>
        </inertial>
    </link>

    <joint name="_middle_link_j_input_joint" type="fixed">
        <origin xyz="0.002971376838 0.119708901424 -0.024658614585" rpy="0.00000000000000027756 0 0"/>
        <parent link="base_link"/>
        <axis xyz="0.991068591048481 -2.638530424585682e-09 -0.13335309459168482"/>
        <child link="_middle_link_l0"/>
    </joint>

    
    <link name="_middle_link_l1">
        <visual>
            <origin xyz="0.000000000000 0.000000000000 -0.000000000000" rpy="0 0 0.00000000000000027756"/>
            <geometry><box size="0 0 0"/></geometry>
            <material name="r5837"><color rgba="0 0 0 0"/></material>
        </visual>
        <inertial>
            <mass value="1"/>
            <inertia ixx="1.0" ixy="0.0" ixz="0.0" iyy="1.0" iyz="0.0" izz="1.0"/>
        </inertial>
    </link>
    <joint name="_middle_link_j01" type="revolute">
        <origin xyz="0.000000000000 0.000000000000 0.000000000000" rpy="0 0 0"/>
        <parent link="_middle_link_l0"/>
        <child link="_middle_link_l1"/>
        <axis xyz="0.991068591048481 -2.638530424585682e-09 -0.13335309459168482"/>
        <mimic joint="Middle" multiplier="1.34986028913700661924" offset="-0.00000000000000027756"/>
        <limit lower="-0.00000000000000027756" upper="1.34986028913700639720" effort="0" velocity="0"/>
    </joint>


    <joint name="_middle_link_j_middle_link" type="fixed">
        <origin xyz="-0.002971376838 -0.119708901424 0.024658614585" rpy="0.00000000000000027756 0 0"/>
        <parent link="_middle_link_l1"/>
        <child link="middle_link"/>
    </joint>
    <link name="ring_proximal">
        <visual>
            <origin xyz="0.000000000000 0.000000000000 0.000000000000" rpy="0 0 0"/>
            <geometry><mesh filename="package://hand_pack/urdf/linear_meshes/right_ring_proximal.STL" scale="0.00125 0.00125 0.00125"/></geometry>
            <material name=""><color rgba="1.0 1.0 1.0 1.0"/></material>
        </visual>
         <collision>
            <origin xyz="0 0 0" rpy="0 0 0"/>
            <geometry>
            <mesh filename="package://hand_pack/urdf/linear_meshes/right_ring_proximal.STL" scale="0.00125 0.00125 0.00125"/>
            </geometry>
        </collision>
        <inertial>
            <mass value="0"/>
            <inertia ixx="0.0" ixy="0.0" ixz="0.0" iyy="0.0" iyz="0.0" izz="0.0"/>
        </inertial>
    </link>
        <link name="_ring_proximal_l0">
        <visual>
            <origin xyz="0.000000000000 0.000000000000 0.000000000000" rpy="0 0 0"/>
            <geometry><box size="0 0 0"/></geometry>
            <material name=""><color rgba="0 0 0 0"/></material>
        </visual>
        <inertial>
            <mass value="0"/>
            <inertia ixx="0.0" ixy="0.0" ixz="0.0" iyy="0.0" iyz="0.0" izz="0.0"/>
        </inertial>
    </link>

    <joint name="_ring_proximal_j_input_joint" type="fixed">
        <origin xyz="-0.020252987070 0.117971128202 -0.013613532848" rpy="0.00000000000000022204 0 0"/>
        <parent link="base_link"/>
        <axis xyz="0.9904648606189275 0.03489949479855251 -0.1332718467716812"/>
        <child link="_ring_proximal_l0"/>
    </joint>

    
    <link name="_ring_proximal_l1">
        <visual>
            <origin xyz="0.000000000000 0.000000000000 -0.000000000000" rpy="0 0 0.00000000000000022204"/>
            <geometry><box size="0 0 0"/></geometry>
            <material name="r1173"><color rgba="0 0 0 0"/></material>
        </visual>
        <inertial>
            <mass value="1"/>
            <inertia ixx="1.0" ixy="0.0" ixz="0.0" iyy="1.0" iyz="0.0" izz="1.0"/>
        </inertial>
    </link>
    <joint name="_ring_proximal_j01" type="revolute">
        <origin xyz="0.000000000000 0.000000000000 0.000000000000" rpy="0 0 0"/>
        <parent link="_ring_proximal_l0"/>
        <child link="_ring_proximal_l1"/>
        <axis xyz="0.9904648606189275 0.03489949479855251 -0.1332718467716812"/>
        <mimic joint="Ring" multiplier="1.51604328762193563129" offset="-0.00000000000000022204"/>
        <limit lower="-0.00000000000000022204" upper="1.51604328762193540925" effort="0" velocity="0"/>
    </joint>


    <joint name="_ring_proximal_j_ring_proximal" type="fixed">
        <origin xyz="0.020252987070 -0.117971128202 0.013613532848" rpy="0.00000000000000022204 0 0"/>
        <parent link="_ring_proximal_l1"/>
        <child link="ring_proximal"/>
    </joint>
    <link name="ring_distal">
        <visual>
            <origin xyz="0.000000000000 0.000000000000 0.000000000000" rpy="0 0 0"/>
            <geometry><mesh filename="package://hand_pack/urdf/linear_meshes/right_ring_distal.STL" scale="0.00125 0.00125 0.00125"/></geometry>
            <material name=""><color rgba="1.0 1.0 1.0 1.0"/></material>
        </visual>
         <collision>
            <origin xyz="0 0 0" rpy="0 0 0"/>
            <geometry>
            <mesh filename="package://hand_pack/urdf/linear_meshes/right_ring_distal.STL" scale="0.00125 0.00125 0.00125"/>
            </geometry>
        </collision>
        <inertial>
            <mass value="0"/>
            <inertia ixx="0.0" ixy="0.0" ixz="0.0" iyy="0.0" iyz="0.0" izz="0.0"/>
        </inertial>
    </link>
        <link name="_ring_distal_l0">
        <visual>
            <origin xyz="0.000000000000 0.000000000000 0.000000000000" rpy="0 0 0"/>
            <geometry><box size="0 0 0"/></geometry>
            <material name=""><color rgba="0 0 0 0"/></material>
        </visual>
        <inertial>
            <mass value="0"/>
            <inertia ixx="0.0" ixy="0.0" ixz="0.0" iyy="0.0" iyz="0.0" izz="0.0"/>
        </inertial>
    </link>

    <joint name="_ring_distal_j_input_joint" type="fixed">
        <origin xyz="-0.022027846941 0.157844998135 -0.016244990455" rpy="0.00000000000000033307 0 0"/>
        <parent link="ring_proximal"/>
        <axis xyz="0.9904648613223425 0.03489949532287934 -0.1332718414066574"/>
        <child link="_ring_distal_l0"/>
    </joint>

    
    <link name="_ring_distal_l1">
        <visual>
            <origin xyz="0.000000000000 0.000000000000 -0.000000000000" rpy="0 0 0.00000000000000033307"/>
            <geometry><box size="0 0 0"/></geometry>
            <material name="r6804"><color rgba="0 0 0 0"/></material>
        </visual>
        <inertial>
            <mass value="1"/>
            <inertia ixx="1.0" ixy="0.0" ixz="0.0" iyy="1.0" iyz="0.0" izz="1.0"/>
        </inertial>
    </link>
    <joint name="_ring_distal_j01" type="revolute">
        <origin xyz="0.000000000000 0.000000000000 0.000000000000" rpy="0 0 0"/>
        <parent link="_ring_distal_l0"/>
        <child link="_ring_distal_l1"/>
        <axis xyz="0.9904648613223425 0.03489949532287934 -0.1332718414066574"/>
        <mimic joint="Ring" multiplier="1.34878317629562793911" offset="-0.00000000000000033307"/>
        <limit lower="-0.00000000000000033307" upper="1.34878317629562749502" effort="0" velocity="0"/>
    </joint>


    <joint name="_ring_distal_j_ring_distal" type="fixed">
        <origin xyz="0.022027846941 -0.157844998135 0.016244990455" rpy="0.00000000000000033307 0 0"/>
        <parent link="_ring_distal_l1"/>
        <child link="ring_distal"/>
    </joint>
    <link name="ring_knuckle">
        <visual>
            <origin xyz="0.000000000000 0.000000000000 0.000000000000" rpy="0 0 0"/>
            <geometry><mesh filename="package://hand_pack/urdf/linear_meshes/right_ring_knuckle.STL" scale="0.00125 0.00125 0.00125"/></geometry>
            <material name=""><color rgba="0.1 0.1 0.7 1.0"/></material>
        </visual>
         <collision>
            <origin xyz="0 0 0" rpy="0 0 0"/>
            <geometry>
            <mesh filename="package://hand_pack/urdf/linear_meshes/right_ring_knuckle.STL" scale="0.00125 0.00125 0.00125"/>
            </geometry>
        </collision>
        <inertial>
            <mass value="0"/>
            <inertia ixx="0.0" ixy="0.0" ixz="0.0" iyy="0.0" iyz="0.0" izz="0.0"/>
        </inertial>
    </link>
        <link name="_ring_knuckle_l0">
        <visual>
            <origin xyz="0.000000000000 0.000000000000 0.000000000000" rpy="0 0 0"/>
            <geometry><box size="0 0 0"/></geometry>
            <material name=""><color rgba="0 0 0 0"/></material>
        </visual>
        <inertial>
            <mass value="0"/>
            <inertia ixx="0.0" ixy="0.0" ixz="0.0" iyy="0.0" iyz="0.0" izz="0.0"/>
        </inertial>
    </link>

    <joint name="_ring_knuckle_j_input_joint" type="fixed">
        <origin xyz="-0.021525748748 0.110272247641 -0.024934758693" rpy="0.00000000000000033307 0 0"/>
        <parent link="ring_proximal"/>
        <axis xyz="-0.9904648595323436 -0.034899502408724456 0.13327185285422538"/>
        <child link="_ring_knuckle_l0"/>
    </joint>

    
    <link name="_ring_knuckle_l1">
        <visual>
            <origin xyz="0.000000000000 0.000000000000 -0.000000000000" rpy="0 0 0.00000000000000033307"/>
            <geometry><box size="0 0 0"/></geometry>
            <material name="r88452"><color rgba="0 0 0 0"/></material>
        </visual>
        <inertial>
            <mass value="1"/>
            <inertia ixx="1.0" ixy="0.0" ixz="0.0" iyy="1.0" iyz="0.0" izz="1.0"/>
        </inertial>
    </link>
    <joint name="_ring_knuckle_j01" type="revolute">
        <origin xyz="0.000000000000 0.000000000000 0.000000000000" rpy="0 0 0"/>
        <parent link="_ring_knuckle_l0"/>
        <child link="_ring_knuckle_l1"/>
        <axis xyz="-0.9904648595323436 -0.034899502408724456 0.13327185285422538"/>
        <mimic joint="Ring" multiplier="1.25181510906761461754" offset="-0.00000000000000033307"/>
        <limit lower="-0.00000000000000033307" upper="1.25181510906761417345" effort="0" velocity="0"/>
    </joint>


    <joint name="_ring_knuckle_j_ring_knuckle" type="fixed">
        <origin xyz="0.021525748748 -0.110272247641 0.024934758693" rpy="0.00000000000000033307 0 0"/>
        <parent link="_ring_knuckle_l1"/>
        <child link="ring_knuckle"/>
    </joint>
    <link name="ring_follower">
        <visual>
            <origin xyz="0.000000000000 0.000000000000 0.000000000000" rpy="0 0 0"/>
            <geometry><mesh filename="package://hand_pack/urdf/linear_meshes/right_ring_follower.STL" scale="0.00125 0.00125 0.00125"/></geometry>
            <material name=""><color rgba="0.1 0.7 0.1 1.0"/></material>
        </visual>
         <collision>
            <origin xyz="0 0 0" rpy="0 0 0"/>
            <geometry>
            <mesh filename="package://hand_pack/urdf/linear_meshes/right_ring_follower.STL" scale="0.00125 0.00125 0.00125"/>
            </geometry>
        </collision>
        <inertial>
            <mass value="0"/>
            <inertia ixx="0.0" ixy="0.0" ixz="0.0" iyy="0.0" iyz="0.0" izz="0.0"/>
        </inertial>
    </link>
        <link name="_ring_follower_l0">
        <visual>
            <origin xyz="0.000000000000 0.000000000000 0.000000000000" rpy="0 0 0"/>
            <geometry><box size="0 0 0"/></geometry>
            <material name=""><color rgba="0 0 0 0"/></material>
        </visual>
        <inertial>
            <mass value="0"/>
            <inertia ixx="0.0" ixy="0.0" ixz="0.0" iyy="0.0" iyz="0.0" izz="0.0"/>
        </inertial>
    </link>

    <joint name="_ring_follower_j_input_joint" type="fixed">
        <origin xyz="-0.020204085146 0.087749254441 -0.021569036818" rpy="0.00000000000000005551 0 0"/>
        <parent link="ring_knuckle"/>
        <axis xyz="-0.99046478428178 -0.03489870585914611 0.13327262069533985"/>
        <child link="_ring_follower_l0"/>
    </joint>

    
    <link name="_ring_follower_l1">
        <visual>
            <origin xyz="0.000000000000 0.000000000000 -0.000000000000" rpy="0 0 0.00000000000000005551"/>
            <geometry><box size="0 0 0"/></geometry>
            <material name="r64299"><color rgba="0 0 0 0"/></material>
        </visual>
        <inertial>
            <mass value="1"/>
            <inertia ixx="1.0" ixy="0.0" ixz="0.0" iyy="1.0" iyz="0.0" izz="1.0"/>
        </inertial>
    </link>
    <joint name="_ring_follower_j01" type="revolute">
        <origin xyz="0.000000000000 0.000000000000 0.000000000000" rpy="0 0 0"/>
        <parent link="_ring_follower_l0"/>
        <child link="_ring_follower_l1"/>
        <axis xyz="-0.99046478428178 -0.03489870585914611 0.13327262069533985"/>
        <mimic joint="Ring" multiplier="0.26423062522385398765" offset="-0.00000000000000005551"/>
        <limit lower="-0.00000000000000005551" upper="0.26423062522385393214" effort="0" velocity="0"/>
    </joint>


    <joint name="_ring_follower_j_ring_follower" type="fixed">
        <origin xyz="0.020204085146 -0.087749254441 0.021569036818" rpy="0.00000000000000005551 0 0"/>
        <parent link="_ring_follower_l1"/>
        <child link="ring_follower"/>
    </joint>
    <link name="ring_link">
        <visual>
            <origin xyz="0.000000000000 0.000000000000 0.000000000000" rpy="0 0 0"/>
            <geometry><mesh filename="package://hand_pack/urdf/linear_meshes/right_ring_link.STL" scale="0.00125 0.00125 0.00125"/></geometry>
            <material name=""><color rgba="0.7 0.1 0.1 1.0"/></material>
        </visual>
         <collision>
            <origin xyz="0 0 0" rpy="0 0 0"/>
            <geometry>
            <mesh filename="package://hand_pack/urdf/linear_meshes/right_ring_link.STL" scale="0.00125 0.00125 0.00125"/>
            </geometry>
        </collision>
        <inertial>
            <mass value="0"/>
            <inertia ixx="0.0" ixy="0.0" ixz="0.0" iyy="0.0" iyz="0.0" izz="0.0"/>
        </inertial>
    </link>
        <link name="_ring_link_l0">
        <visual>
            <origin xyz="0.000000000000 0.000000000000 0.000000000000" rpy="0 0 0"/>
            <geometry><box size="0 0 0"/></geometry>
            <material name=""><color rgba="0 0 0 0"/></material>
        </visual>
        <inertial>
            <mass value="0"/>
            <inertia ixx="0.0" ixy="0.0" ixz="0.0" iyy="0.0" iyz="0.0" izz="0.0"/>
        </inertial>
    </link>

    <joint name="_ring_link_j_input_joint" type="fixed">
        <origin xyz="-0.021571442005 0.119689090637 -0.018834030484" rpy="0.00000000000000027756 0 0"/>
        <parent link="base_link"/>
        <axis xyz="0.9904648586488499 0.03489949747682052 -0.1332718607117766"/>
        <child link="_ring_link_l0"/>
    </joint>

    
    <link name="_ring_link_l1">
        <visual>
            <origin xyz="0.000000000000 0.000000000000 -0.000000000000" rpy="0 0 0.00000000000000027756"/>
            <geometry><box size="0 0 0"/></geometry>
            <material name="r3823"><color rgba="0 0 0 0"/></material>
        </visual>
        <inertial>
            <mass value="1"/>
            <inertia ixx="1.0" ixy="0.0" ixz="0.0" iyy="1.0" iyz="0.0" izz="1.0"/>
        </inertial>
    </link>
    <joint name="_ring_link_j01" type="revolute">
        <origin xyz="0.000000000000 0.000000000000 0.000000000000" rpy="0 0 0"/>
        <parent link="_ring_link_l0"/>
        <child link="_ring_link_l1"/>
        <axis xyz="0.9904648586488499 0.03489949747682052 -0.1332718607117766"/>
        <mimic joint="Ring" multiplier="1.34878364034376629910" offset="-0.00000000000000027756"/>
        <limit lower="-0.00000000000000027756" upper="1.34878364034376607705" effort="0" velocity="0"/>
    </joint>


    <joint name="_ring_link_j_ring_link" type="fixed">
        <origin xyz="0.021571442005 -0.119689090637 0.018834030484" rpy="0.00000000000000027756 0 0"/>
        <parent link="_ring_link_l1"/>
        <child link="ring_link"/>
    </joint>
    <link name="little_proximal">
        <visual>
            <origin xyz="0.000000000000 0.000000000000 0.000000000000" rpy="0 0 0"/>
            <geometry><mesh filename="package://hand_pack/urdf/linear_meshes/right_little_proximal.STL" scale="0.00125 0.00125 0.00125"/></geometry>
            <material name=""><color rgba="1.0 1.0 1.0 1.0"/></material>
        </visual>
         <collision>
            <origin xyz="0 0 0" rpy="0 0 0"/>
            <geometry>
            <mesh filename="package://hand_pack/urdf/linear_meshes/right_little_proximal.STL" scale="0.00125 0.00125 0.00125"/>
            </geometry>
        </collision>
        <inertial>
            <mass value="0"/>
            <inertia ixx="0.0" ixy="0.0" ixz="0.0" iyy="0.0" iyz="0.0" izz="0.0"/>
        </inertial>
    </link>
        <link name="_little_proximal_l0">
        <visual>
            <origin xyz="0.000000000000 0.000000000000 0.000000000000" rpy="0 0 0"/>
            <geometry><box size="0 0 0"/></geometry>
            <material name=""><color rgba="0 0 0 0"/></material>
        </visual>
        <inertial>
            <mass value="0"/>
            <inertia ixx="0.0" ixy="0.0" ixz="0.0" iyy="0.0" iyz="0.0" izz="0.0"/>
        </inertial>
    </link>

    <joint name="_little_proximal_j_input_joint" type="fixed">
        <origin xyz="-0.041146394484 0.105410775301 -0.004932256356" rpy="0.00000000000000022204 0 0"/>
        <parent link="base_link"/>
        <axis xyz="0.9786112745748743 0.10442184811921981 -0.1772457359439341"/>
        <child link="_little_proximal_l0"/>
    </joint>

    
    <link name="_little_proximal_l1">
        <visual>
            <origin xyz="0.000000000000 0.000000000000 -0.000000000000" rpy="0 0 0.00000000000000022204"/>
            <geometry><box size="0 0 0"/></geometry>
            <material name="r3524"><color rgba="0 0 0 0"/></material>
        </visual>
        <inertial>
            <mass value="1"/>
            <inertia ixx="1.0" ixy="0.0" ixz="0.0" iyy="1.0" iyz="0.0" izz="1.0"/>
        </inertial>
    </link>
    <joint name="_little_proximal_j01" type="revolute">
        <origin xyz="0.000000000000 0.000000000000 0.000000000000" rpy="0 0 0"/>
        <parent link="_little_proximal_l0"/>
        <child link="_little_proximal_l1"/>
        <axis xyz="0.9786112745748743 0.10442184811921981 -0.1772457359439341"/>
        <mimic joint="Little" multiplier="1.51604353824540605267" offset="-0.00000000000000022204"/>
        <limit lower="-0.00000000000000022204" upper="1.51604353824540583062" effort="0" velocity="0"/>
    </joint>


    <joint name="_little_proximal_j_little_proximal" type="fixed">
        <origin xyz="0.041146394484 -0.105410775301 0.004932256356" rpy="0.00000000000000022204 0 0"/>
        <parent link="_little_proximal_l1"/>
        <child link="little_proximal"/>
    </joint>
    <link name="little_distal">
        <visual>
            <origin xyz="0.000000000000 0.000000000000 0.000000000000" rpy="0 0 0"/>
            <geometry><mesh filename="package://hand_pack/urdf/linear_meshes/right_little_distal.STL" scale="0.00125 0.00125 0.00125"/></geometry>
            <material name=""><color rgba="1.0 1.0 1.0 1.0"/></material>
        </visual>
         <collision>
            <origin xyz="0 0 0" rpy="0 0 0"/>
            <geometry>
            <mesh filename="package://hand_pack/urdf/linear_meshes/right_little_distal.STL" scale="0.00125 0.00125 0.00125"/>
            </geometry>
        </collision>
        <inertial>
            <mass value="0"/>
            <inertia ixx="0.0" ixy="0.0" ixz="0.0" iyy="0.0" iyz="0.0" izz="0.0"/>
        </inertial>
    </link>
        <link name="_little_distal_l0">
        <visual>
            <origin xyz="0.000000000000 0.000000000000 0.000000000000" rpy="0 0 0"/>
            <geometry><box size="0 0 0"/></geometry>
            <material name=""><color rgba="0 0 0 0"/></material>
        </visual>
        <inertial>
            <mass value="0"/>
            <inertia ixx="0.0" ixy="0.0" ixz="0.0" iyy="0.0" iyz="0.0" izz="0.0"/>
        </inertial>
    </link>

    <joint name="_little_distal_j_input_joint" type="fixed">
        <origin xyz="-0.045041267780 0.134855970150 -0.009152483278" rpy="-0.00000001490116086078 0 0"/>
        <parent link="little_proximal"/>
        <axis xyz="0.9786112688356977 0.1044218162920877 -0.177245786381644"/>
        <child link="_little_distal_l0"/>
    </joint>

    
    <link name="_little_distal_l1">
        <visual>
            <origin xyz="0.000000000000 0.000000000000 -0.000000000000" rpy="0 0 -0.00000001490116086078"/>
            <geometry><box size="0 0 0"/></geometry>
            <material name="r81183"><color rgba="0 0 0 0"/></material>
        </visual>
        <inertial>
            <mass value="1"/>
            <inertia ixx="1.0" ixy="0.0" ixz="0.0" iyy="1.0" iyz="0.0" izz="1.0"/>
        </inertial>
    </link>
    <joint name="_little_distal_j01" type="revolute">
        <origin xyz="0.000000000000 0.000000000000 0.000000000000" rpy="0 0 0"/>
        <parent link="_little_distal_l0"/>
        <child link="_little_distal_l1"/>
        <axis xyz="0.9786112688356977 0.1044218162920877 -0.177245786381644"/>
        <mimic joint="Little" multiplier="1.31664152870820272412" offset="0.00000001490116086078"/>
        <limit lower="0.00000001490116086078" upper="1.31664154360936347388" effort="0" velocity="0"/>
    </joint>


    <joint name="_little_distal_j_little_distal" type="fixed">
        <origin xyz="0.045041267780 -0.134855970150 0.009152483278" rpy="-0.00000001490116086078 0 0"/>
        <parent link="_little_distal_l1"/>
        <child link="little_distal"/>
    </joint>
    <link name="little_knuckle">
        <visual>
            <origin xyz="0.000000000000 0.000000000000 0.000000000000" rpy="0 0 0"/>
            <geometry><mesh filename="package://hand_pack/urdf/linear_meshes/right_little_knuckle.STL" scale="0.00125 0.00125 0.00125"/></geometry>
            <material name=""><color rgba="0.1 0.1 0.7 1.0"/></material>
        </visual>
         <collision>
            <origin xyz="0 0 0" rpy="0 0 0"/>
            <geometry>
            <mesh filename="package://hand_pack/urdf/linear_meshes/right_little_knuckle.STL" scale="0.00125 0.00125 0.00125"/>
            </geometry>
        </collision>
        <inertial>
            <mass value="0"/>
            <inertia ixx="0.0" ixy="0.0" ixz="0.0" iyy="0.0" iyz="0.0" izz="0.0"/>
        </inertial>
    </link>
        <link name="_little_knuckle_l0">
        <visual>
            <origin xyz="0.000000000000 0.000000000000 0.000000000000" rpy="0 0 0"/>
            <geometry><box size="0 0 0"/></geometry>
            <material name=""><color rgba="0 0 0 0"/></material>
        </visual>
        <inertial>
            <mass value="0"/>
            <inertia ixx="0.0" ixy="0.0" ixz="0.0" iyy="0.0" iyz="0.0" izz="0.0"/>
        </inertial>
    </link>

    <joint name="_little_knuckle_j_input_joint" type="fixed">
        <origin xyz="-0.042400995411 0.097693326817 -0.016242883301" rpy="-0.00000001490116097180 0 0"/>
        <parent link="little_proximal"/>
        <axis xyz="-0.9786112715268198 -0.10442182673933997 0.1772457653685416"/>
        <child link="_little_knuckle_l0"/>
    </joint>

    
    <link name="_little_knuckle_l1">
        <visual>
            <origin xyz="0.000000000000 0.000000000000 -0.000000000000" rpy="0 0 -0.00000001490116097180"/>
            <geometry><box size="0 0 0"/></geometry>
            <material name="r35148"><color rgba="0 0 0 0"/></material>
        </visual>
        <inertial>
            <mass value="1"/>
            <inertia ixx="1.0" ixy="0.0" ixz="0.0" iyy="1.0" iyz="0.0" izz="1.0"/>
        </inertial>
    </link>
    <joint name="_little_knuckle_j01" type="revolute">
        <origin xyz="0.000000000000 0.000000000000 0.000000000000" rpy="0 0 0"/>
        <parent link="_little_knuckle_l0"/>
        <child link="_little_knuckle_l1"/>
        <axis xyz="-0.9786112715268198 -0.10442182673933997 0.1772457653685416"/>
        <mimic joint="Little" multiplier="1.25181529061989249563" offset="0.00000001490116097180"/>
        <limit lower="0.00000001490116097180" upper="1.25181530552105346743" effort="0" velocity="0"/>
    </joint>


    <joint name="_little_knuckle_j_little_knuckle" type="fixed">
        <origin xyz="0.042400995411 -0.097693326817 0.016242883301" rpy="-0.00000001490116097180 0 0"/>
        <parent link="_little_knuckle_l1"/>
        <child link="little_knuckle"/>
    </joint>
    <link name="little_follower">
        <visual>
            <origin xyz="0.000000000000 0.000000000000 0.000000000000" rpy="0 0 0"/>
            <geometry><mesh filename="package://hand_pack/urdf/linear_meshes/right_little_follower.STL" scale="0.00125 0.00125 0.00125"/></geometry>
            <material name=""><color rgba="0.1 0.7 0.1 1.0"/></material>
        </visual>
         <collision>
            <origin xyz="0 0 0" rpy="0 0 0"/>
            <geometry>
            <mesh filename="package://hand_pack/urdf/linear_meshes/right_little_follower.STL" scale="0.00125 0.00125 0.00125"/>
            </geometry>
        </collision>
        <inertial>
            <mass value="0"/>
            <inertia ixx="0.0" ixy="0.0" ixz="0.0" iyy="0.0" iyz="0.0" izz="0.0"/>
        </inertial>
    </link>
        <link name="_little_follower_l0">
        <visual>
            <origin xyz="0.000000000000 0.000000000000 0.000000000000" rpy="0 0 0"/>
            <geometry><box size="0 0 0"/></geometry>
            <material name=""><color rgba="0 0 0 0"/></material>
        </visual>
        <inertial>
            <mass value="0"/>
            <inertia ixx="0.0" ixy="0.0" ixz="0.0" iyy="0.0" iyz="0.0" izz="0.0"/>
        </inertial>
    </link>

    <joint name="_little_follower_j_input_joint" type="fixed">
        <origin xyz="-0.039368998290 0.075301771122 -0.013114366372" rpy="0.00000000000000005551 0 0"/>
        <parent link="little_knuckle"/>
        <axis xyz="-0.9786113234476818 -0.10442071454400961 0.1772461339327191"/>
        <child link="_little_follower_l0"/>
    </joint>

    
    <link name="_little_follower_l1">
        <visual>
            <origin xyz="0.000000000000 0.000000000000 -0.000000000000" rpy="0 0 0.00000000000000005551"/>
            <geometry><box size="0 0 0"/></geometry>
            <material name="r76983"><color rgba="0 0 0 0"/></material>
        </visual>
        <inertial>
            <mass value="1"/>
            <inertia ixx="1.0" ixy="0.0" ixz="0.0" iyy="1.0" iyz="0.0" izz="1.0"/>
        </inertial>
    </link>
    <joint name="_little_follower_j01" type="revolute">
        <origin xyz="0.000000000000 0.000000000000 0.000000000000" rpy="0 0 0"/>
        <parent link="_little_follower_l0"/>
        <child link="_little_follower_l1"/>
        <axis xyz="-0.9786113234476818 -0.10442071454400961 0.1772461339327191"/>
        <mimic joint="Little" multiplier="0.26422625333146315674" offset="-0.00000000000000005551"/>
        <limit lower="-0.00000000000000005551" upper="0.26422625333146310123" effort="0" velocity="0"/>
    </joint>


    <joint name="_little_follower_j_little_follower" type="fixed">
        <origin xyz="0.039368998290 -0.075301771122 0.013114366372" rpy="0.00000000000000005551 0 0"/>
        <parent link="_little_follower_l1"/>
        <child link="little_follower"/>
    </joint>
    <link name="little_link">
        <visual>
            <origin xyz="0.000000000000 0.000000000000 0.000000000000" rpy="0 0 0"/>
            <geometry><mesh filename="package://hand_pack/urdf/linear_meshes/right_little_link.STL" scale="0.00125 0.00125 0.00125"/></geometry>
            <material name=""><color rgba="0.7 0.1 0.1 1.0"/></material>
        </visual>
         <collision>
            <origin xyz="0 0 0" rpy="0 0 0"/>
            <geometry>
            <mesh filename="package://hand_pack/urdf/linear_meshes/right_little_link.STL" scale="0.00125 0.00125 0.00125"/>
            </geometry>
        </collision>
        <inertial>
            <mass value="0"/>
            <inertia ixx="0.0" ixy="0.0" ixz="0.0" iyy="0.0" iyz="0.0" izz="0.0"/>
        </inertial>
    </link>
        <link name="_little_link_l0">
        <visual>
            <origin xyz="0.000000000000 0.000000000000 0.000000000000" rpy="0 0 0"/>
            <geometry><box size="0 0 0"/></geometry>
            <material name=""><color rgba="0 0 0 0"/></material>
        </visual>
        <inertial>
            <mass value="0"/>
            <inertia ixx="0.0" ixy="0.0" ixz="0.0" iyy="0.0" iyz="0.0" izz="0.0"/>
        </inertial>
    </link>

    <joint name="_little_link_j_input_joint" type="fixed">
        <origin xyz="-0.042699954911 0.107069112317 -0.010095931902" rpy="0.00000000000000022204 0 0"/>
        <parent link="base_link"/>
        <axis xyz="0.9786112669174357 0.10442180910601918 -0.17724580120634031"/>
        <child link="_little_link_l0"/>
    </joint>

    
    <link name="_little_link_l1">
        <visual>
            <origin xyz="0.000000000000 0.000000000000 -0.000000000000" rpy="0 0 0.00000000000000022204"/>
            <geometry><box size="0 0 0"/></geometry>
            <material name="r45524"><color rgba="0 0 0 0"/></material>
        </visual>
        <inertial>
            <mass value="1"/>
            <inertia ixx="1.0" ixy="0.0" ixz="0.0" iyy="1.0" iyz="0.0" izz="1.0"/>
        </inertial>
    </link>
    <joint name="_little_link_j01" type="revolute">
        <origin xyz="0.000000000000 0.000000000000 0.000000000000" rpy="0 0 0"/>
        <parent link="_little_link_l0"/>
        <child link="_little_link_l1"/>
        <axis xyz="0.9786112669174357 0.10442180910601918 -0.17724580120634031"/>
        <mimic joint="Little" multiplier="1.31664159359669974414" offset="-0.00000000000000022204"/>
        <limit lower="-0.00000000000000022204" upper="1.31664159359669952210" effort="0" velocity="0"/>
    </joint>


    <joint name="_little_link_j_little_link" type="fixed">
        <origin xyz="0.042699954911 -0.107069112317 0.010095931902" rpy="0.00000000000000022204 0 0"/>
        <parent link="_little_link_l1"/>
        <child link="little_link"/>
    </joint>
</robot>
